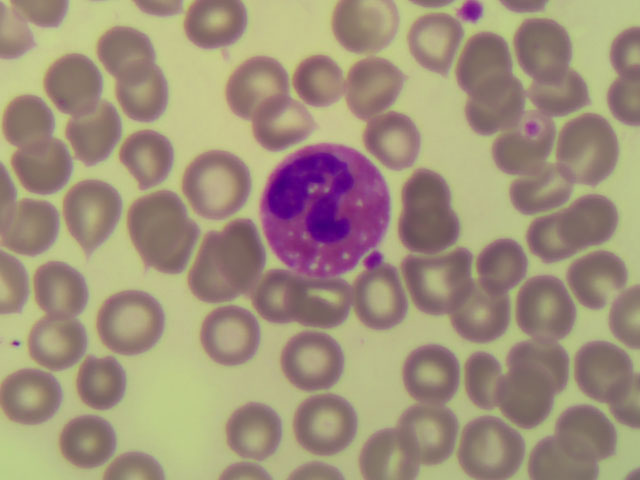Platelets: (461, 1, 484, 16)
RBC: (182, 149, 251, 220), (99, 290, 165, 355), (401, 246, 468, 310), (228, 54, 291, 118), (556, 119, 619, 181), (63, 179, 120, 246), (129, 194, 191, 255), (350, 269, 410, 328), (281, 276, 349, 326), (449, 280, 510, 334), (1, 367, 58, 423), (200, 304, 258, 359), (454, 31, 512, 86), (407, 12, 465, 67), (359, 425, 417, 480), (398, 406, 456, 461), (396, 345, 454, 400), (223, 399, 281, 454), (298, 392, 356, 447), (286, 336, 344, 391), (467, 78, 525, 133), (517, 278, 575, 333), (510, 159, 568, 214), (513, 15, 571, 70), (510, 335, 568, 390), (574, 343, 632, 398), (498, 369, 556, 424), (558, 406, 616, 461), (462, 423, 520, 478), (246, 93, 308, 144), (220, 215, 266, 283), (193, 236, 239, 304), (398, 195, 457, 248), (13, 136, 68, 192), (36, 261, 91, 317), (528, 208, 586, 261), (347, 56, 406, 107), (60, 412, 113, 467), (65, 104, 118, 158), (44, 52, 97, 106), (571, 251, 624, 305), (526, 66, 592, 109), (332, 1, 392, 48), (186, 1, 244, 48), (6, 196, 58, 246), (31, 314, 85, 362), (495, 120, 550, 167), (100, 32, 151, 78), (120, 67, 166, 116), (257, 263, 303, 312), (399, 169, 445, 218), (370, 111, 416, 160), (293, 54, 339, 103), (79, 356, 125, 405), (125, 130, 171, 179), (559, 197, 613, 237), (608, 60, 640, 124), (1, 1, 37, 56), (466, 353, 500, 410), (608, 18, 640, 76), (106, 449, 167, 479), (1, 252, 26, 313)
WBC: (261, 152, 389, 272)
